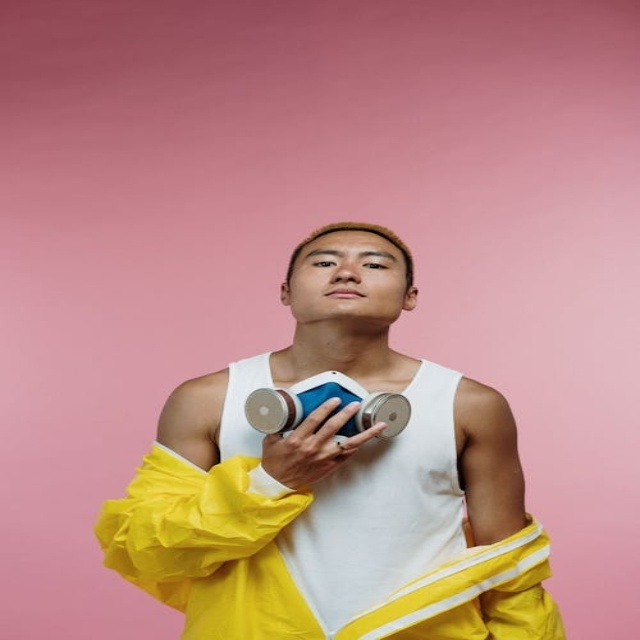Sin_gafas: (298, 247, 399, 273)
Sin_guantes: (261, 399, 387, 490)
Sin_mascara: (312, 286, 375, 313)
